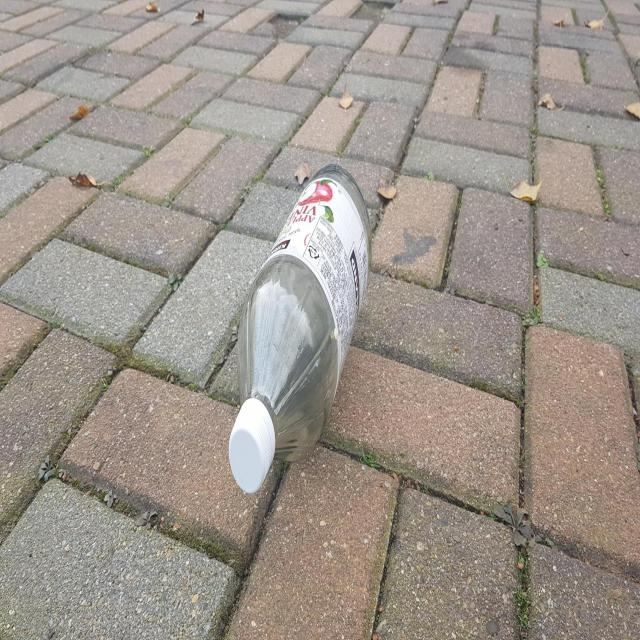glass: (229, 164, 371, 493)
